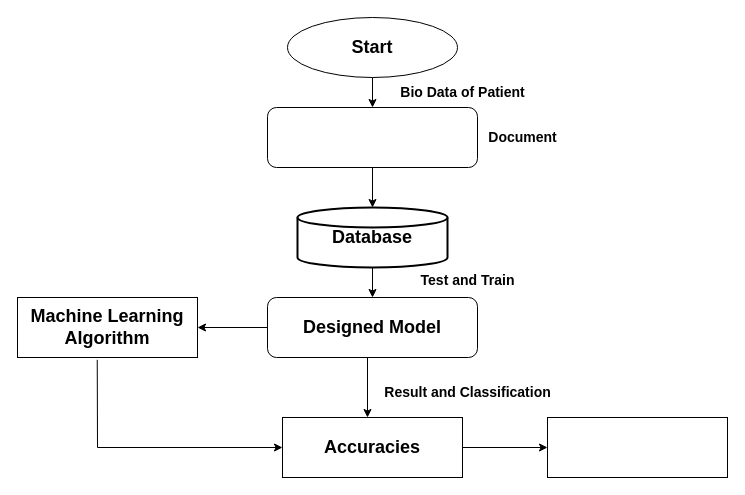
Some shapes in this 745 by 495 pixel diagram are drawn without their labels. Each missing label, with the centre of its shape:
Input from the Patient: the point at 372,137
Report Generation: the point at 637,447
